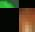slime: (0, 0, 19, 8)
